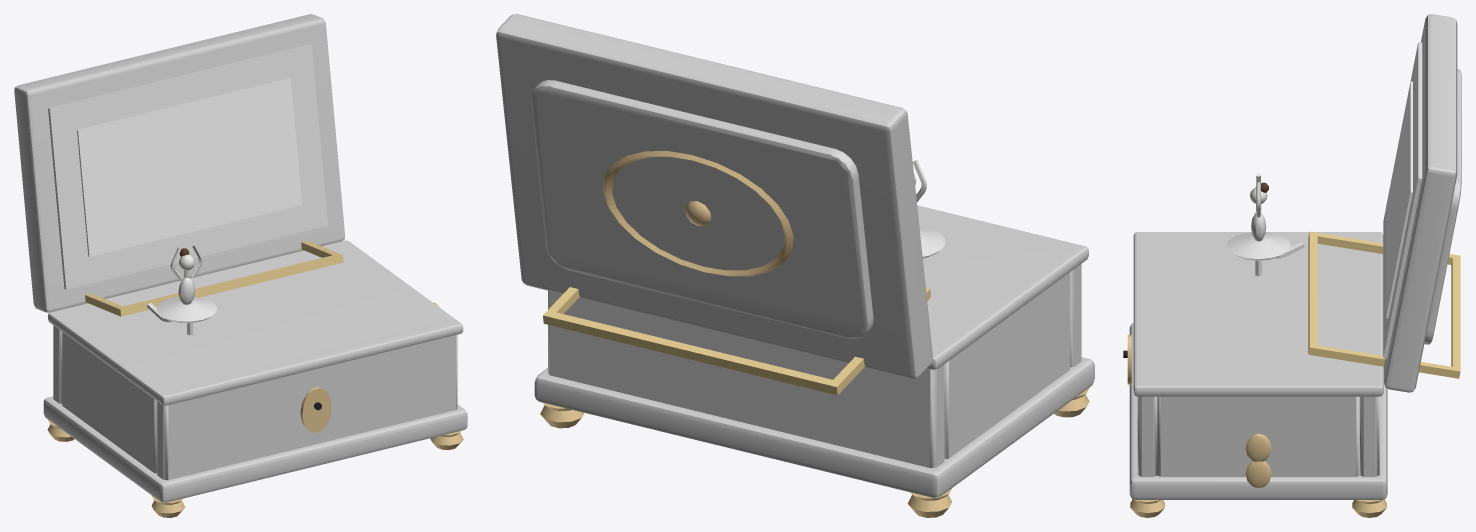
File: SM_Loot_MusicBox.fbx
3 views of the same model, side by side, from view 1: azimuth 30°, elevation 25°; view 2: azimuth 150°, elevation 25°; view 3: azimuth 270°, elevation 25° (orthographic). The views are drawn at different scales.
Parts seen in each view (by area): view 1: SM_Loot_MusicBox; view 2: SM_Loot_MusicBox; view 3: SM_Loot_MusicBox.
Boxes of the visible parts, x1=… form: SM_Loot_MusicBox: x1=14, y1=14, x2=467, y2=517; SM_Loot_MusicBox: x1=496, y1=14, x2=1094, y2=517; SM_Loot_MusicBox: x1=1123, y1=14, x2=1461, y2=517.
Size of the model in its own units: 20.59 by 19.16 by 16.76.
